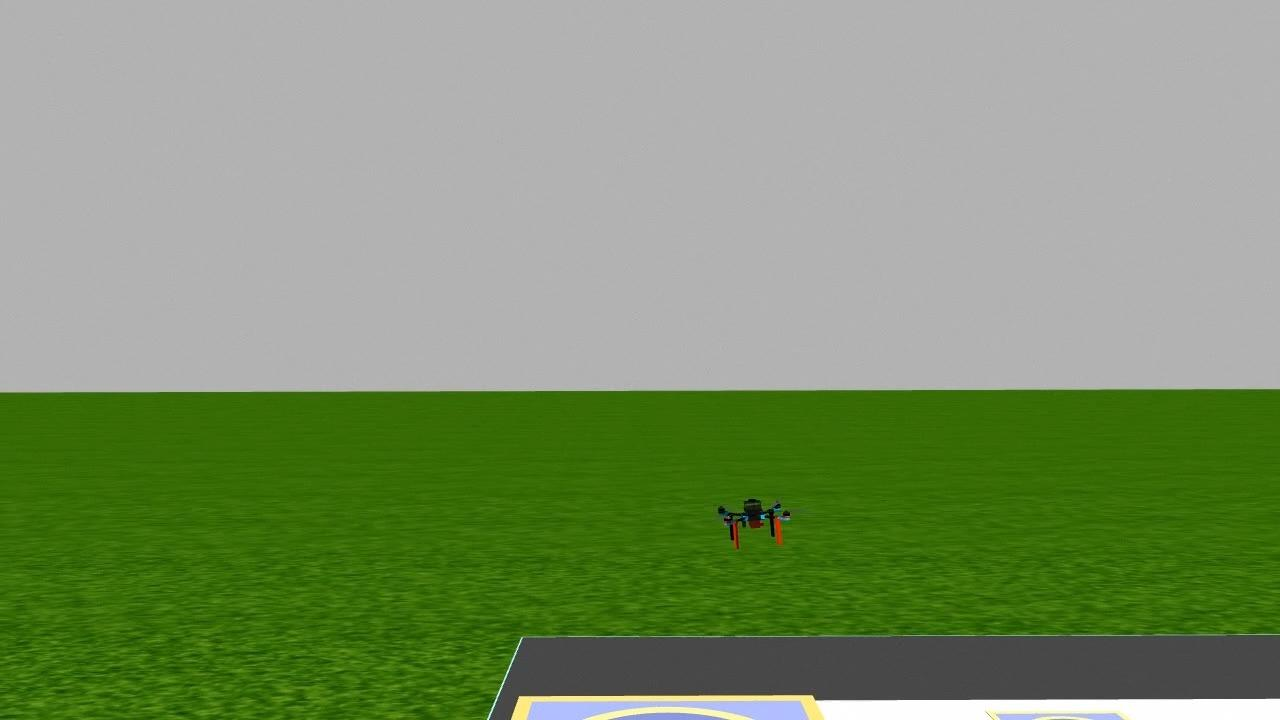UAV: (706, 480, 801, 561)
